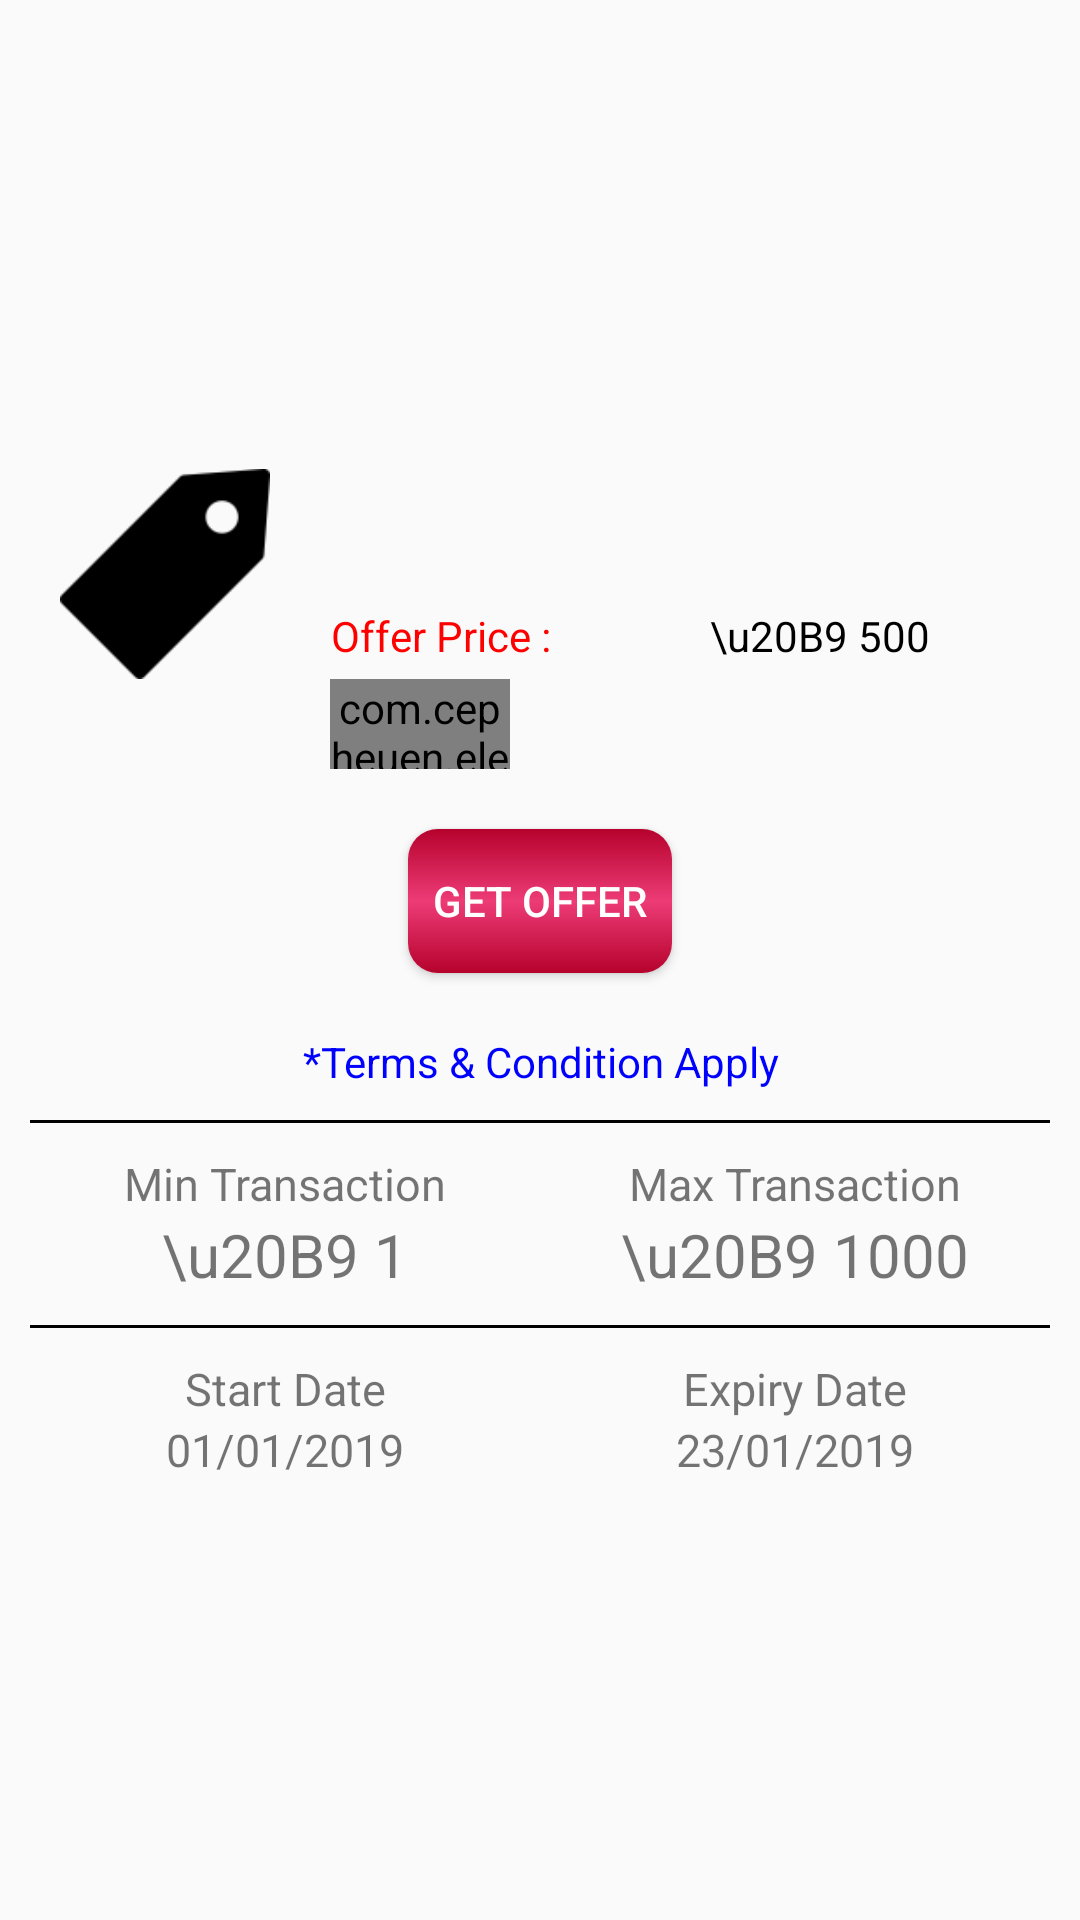

Where icons sit on this 1080×1920 app screen, as (x1, y1, x2, y2):
offerd: (60, 469, 270, 679)
